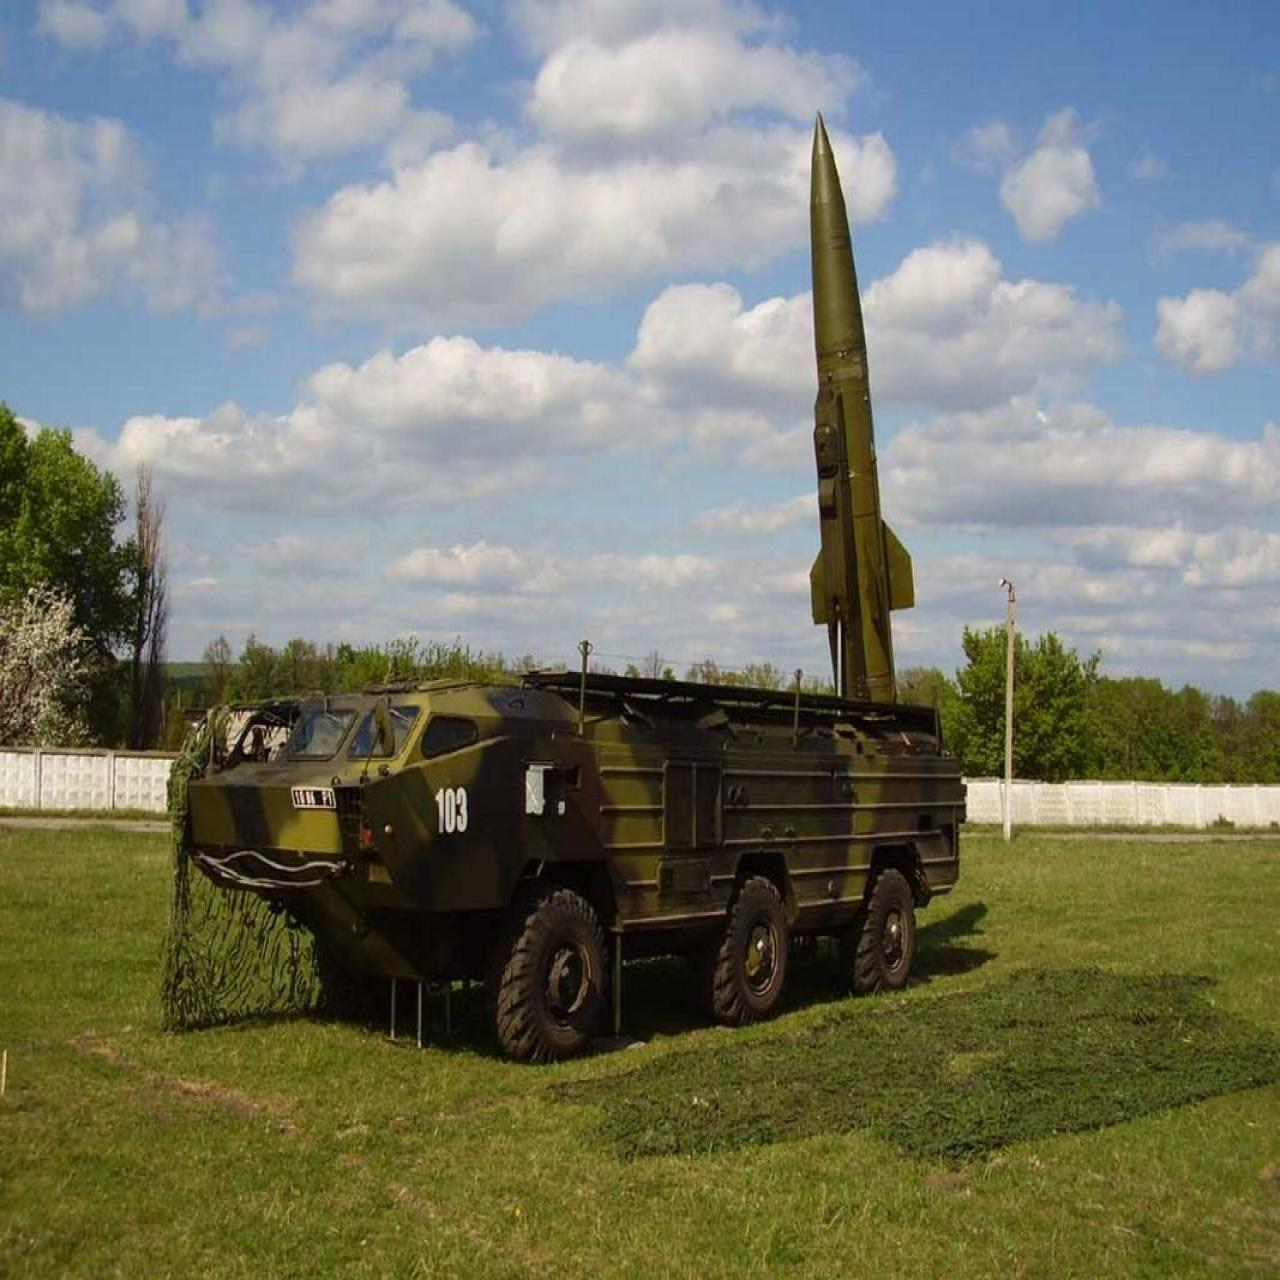MIL_Veh: (176, 107, 964, 1026)
